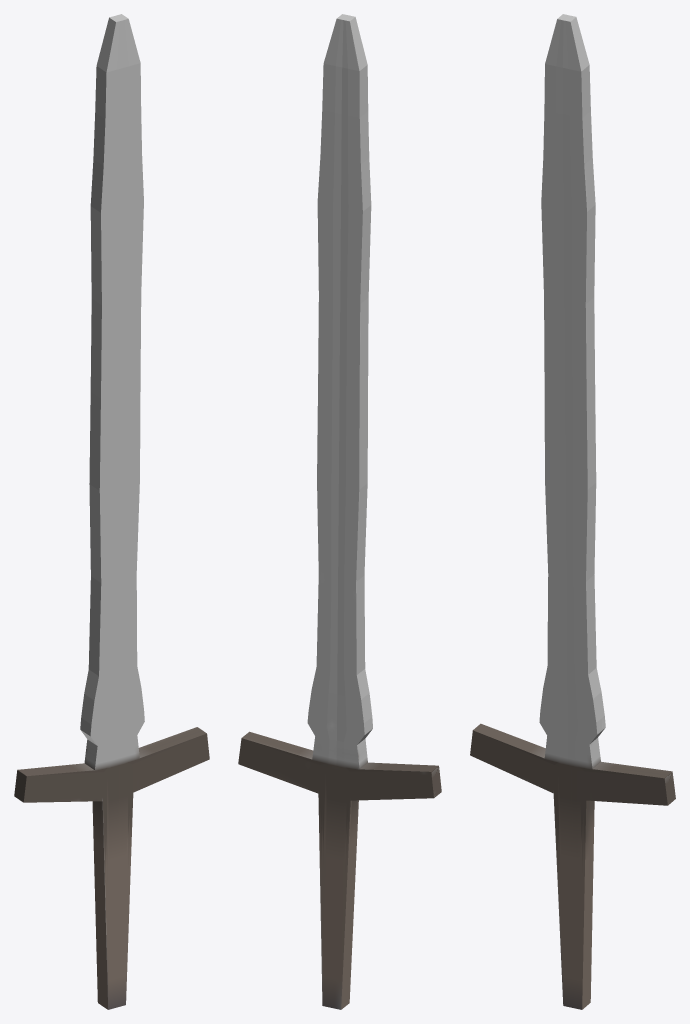
File: sword_000074.obj
3 renders of one model, left to right at view 1: azimuth 30°, elevation 25°; view 2: azimuth 150°, elevation 25°; view 3: azimuth 330°, elevation 25°, orthographic.
Size of the model in its own units: 0.142 by 0.6986 by 0.0239.
